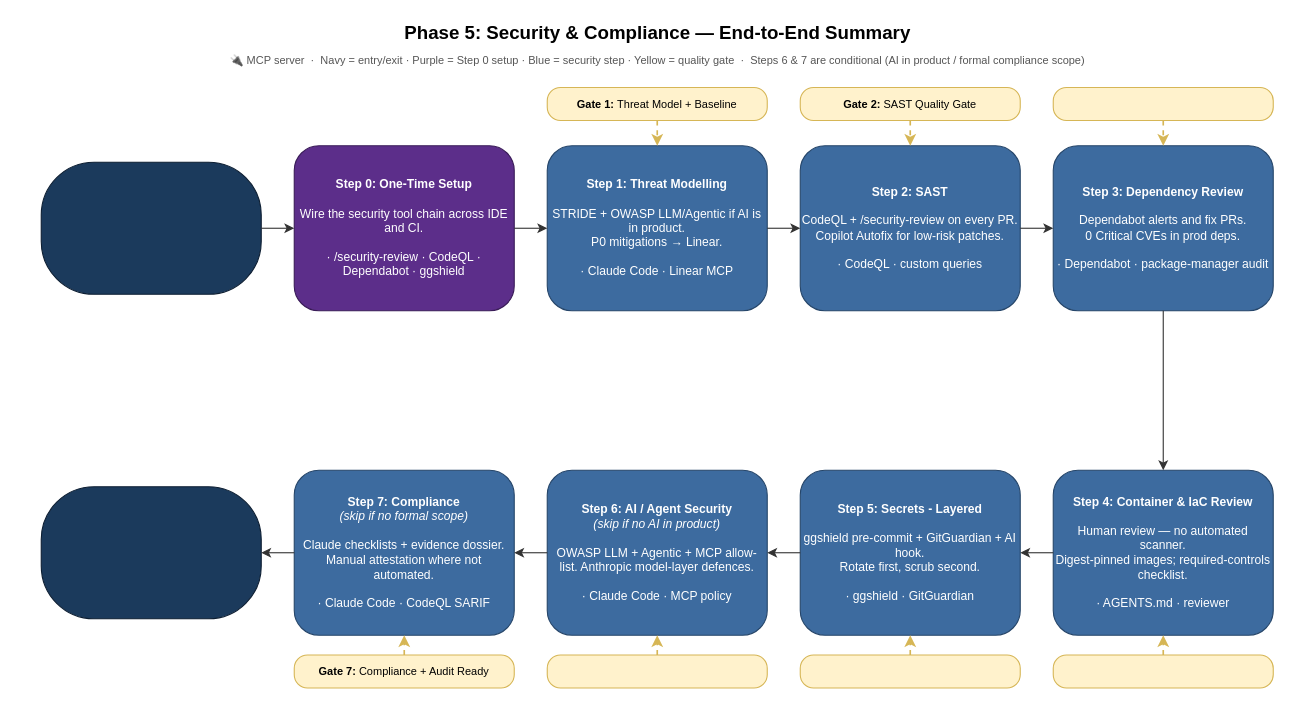
The diagram is 1313 pixels wide and 707 high, and some of its shapes have lost their labels. The box of each missing label's shape, as (x1, y1, x2, y2) in pixels:
Gate 3: SCA Hygiene: (1052, 86, 1273, 120)
Gate 4: Container + IaC: (1052, 654, 1273, 688)
Gate 5: Secrets Hygiene: (799, 654, 1020, 688)
Gate 6: AI / Agent Security: (546, 654, 767, 688)
Phase 5 Entry Continuous from project start: (40, 161, 261, 294)
← Phase 6 / 7: Delivery Security posture verified. Audit-ready if in scope.: (40, 486, 261, 619)
